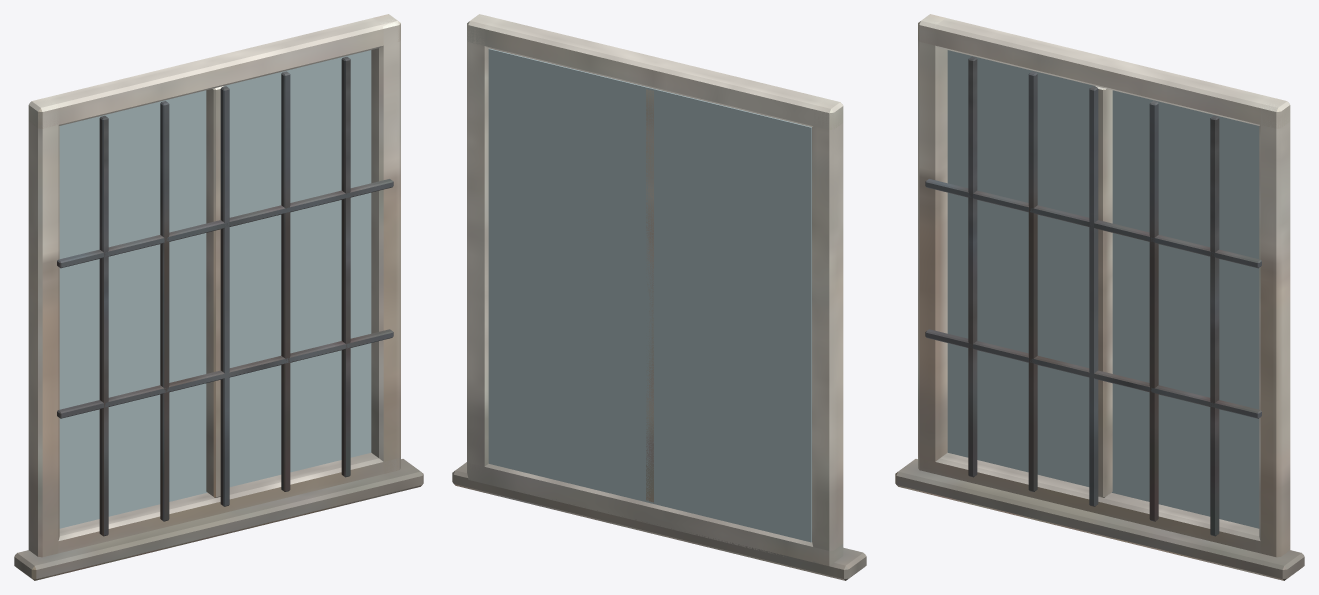
Rendered from window_grille_panel.glb.
The picture shows the model from 3 angles, left to right: view 1: azimuth 30°, elevation 25°; view 2: azimuth 150°, elevation 25°; view 3: azimuth 330°, elevation 25°; orthographic projection.
Parts seen in each view (by area): view 1: window_grille_panel; view 2: window_grille_panel; view 3: window_grille_panel.
Boxes of the visible parts, left/top/right/bottom form: window_grille_panel: left=14, top=14, right=423, bottom=580; window_grille_panel: left=452, top=14, right=866, bottom=580; window_grille_panel: left=895, top=14, right=1304, bottom=580.
Bounding box in the file's own units: 1.08 × 1.22 × 0.1.
4 materials, 3 textured.
